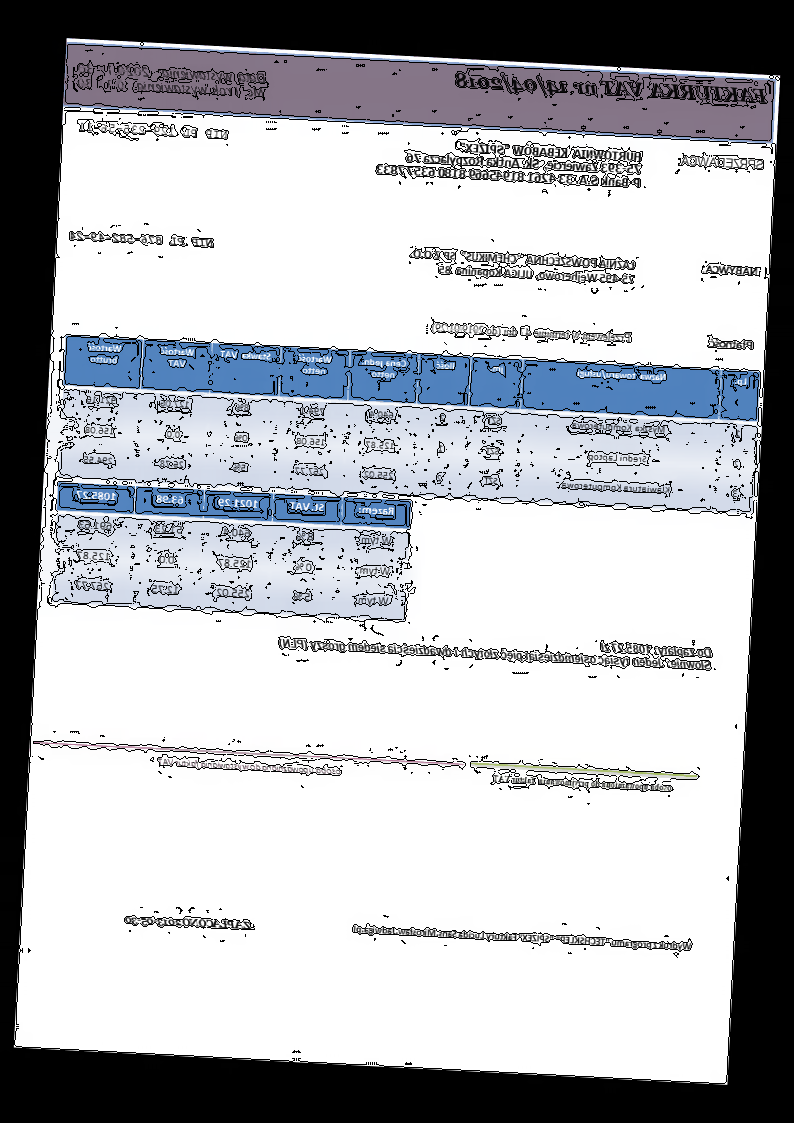Table: (56, 334, 763, 513), (51, 481, 414, 622)
TextBox: (276, 622, 715, 676), (375, 136, 644, 193), (450, 67, 771, 111), (350, 921, 695, 954), (407, 246, 639, 287), (72, 60, 270, 101), (429, 319, 634, 345), (490, 771, 677, 796), (156, 755, 344, 777), (77, 120, 231, 143), (68, 228, 217, 251), (122, 912, 255, 935), (676, 151, 767, 172), (701, 262, 762, 278), (705, 336, 757, 353)
